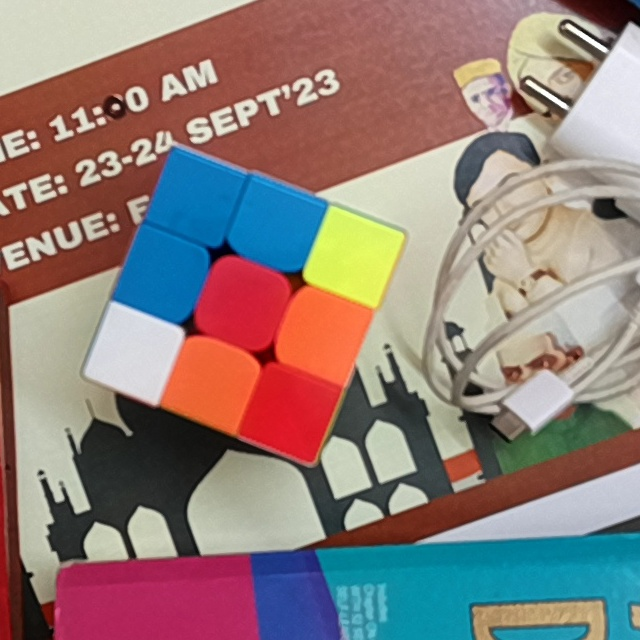tile: (212, 274, 275, 332), (164, 171, 227, 228), (135, 246, 194, 305), (180, 355, 241, 412), (294, 304, 352, 363), (324, 229, 383, 286), (245, 199, 305, 255), (260, 385, 319, 441), (104, 325, 164, 380)
